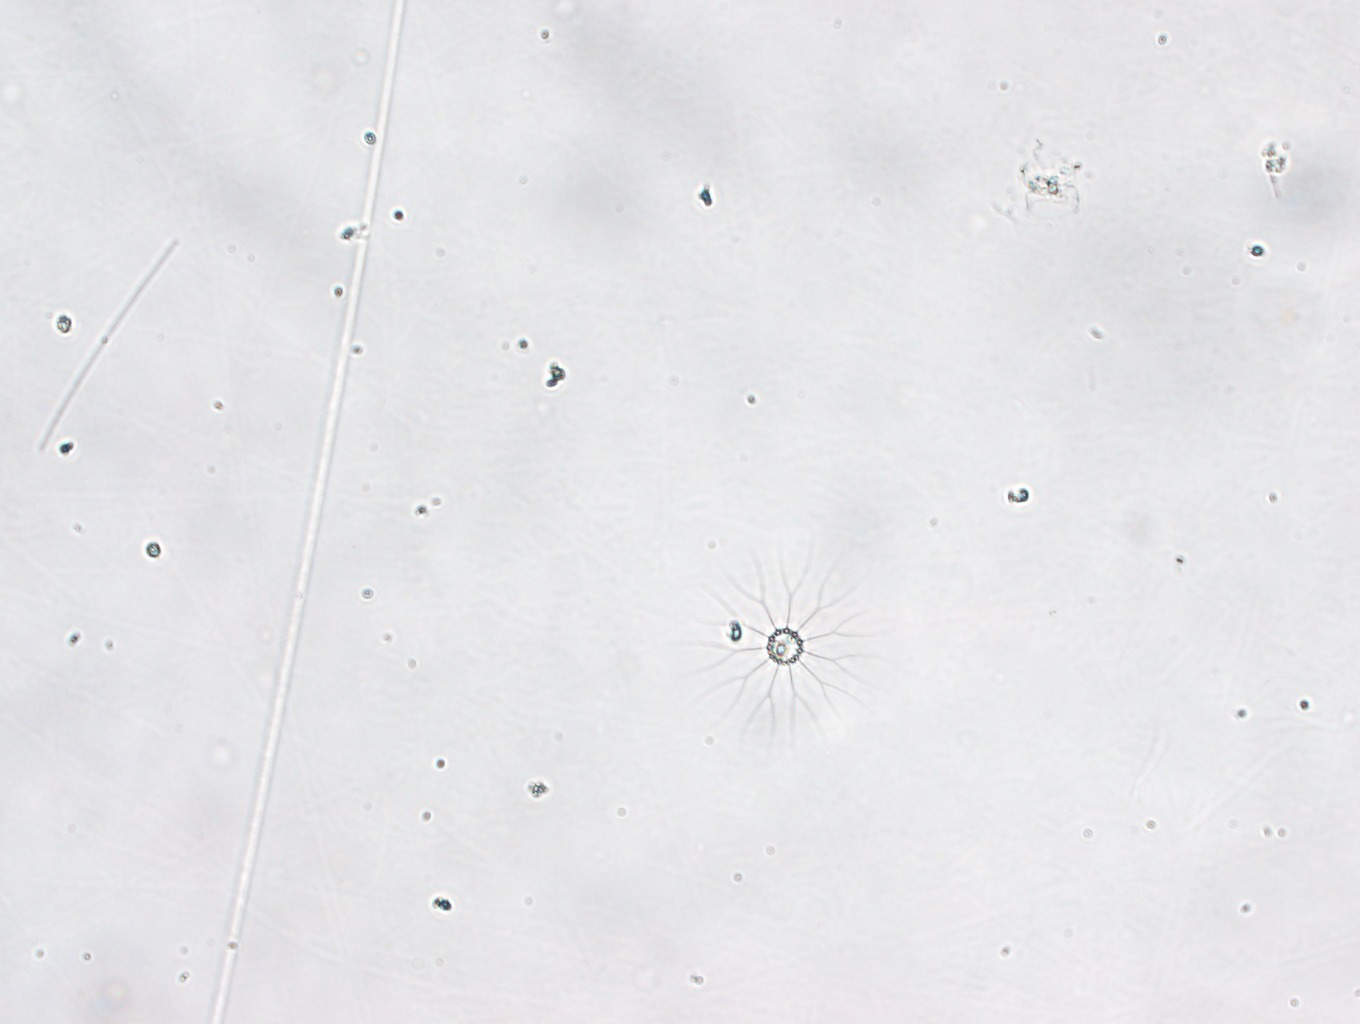bacteriastrum: (668, 535, 891, 748)
